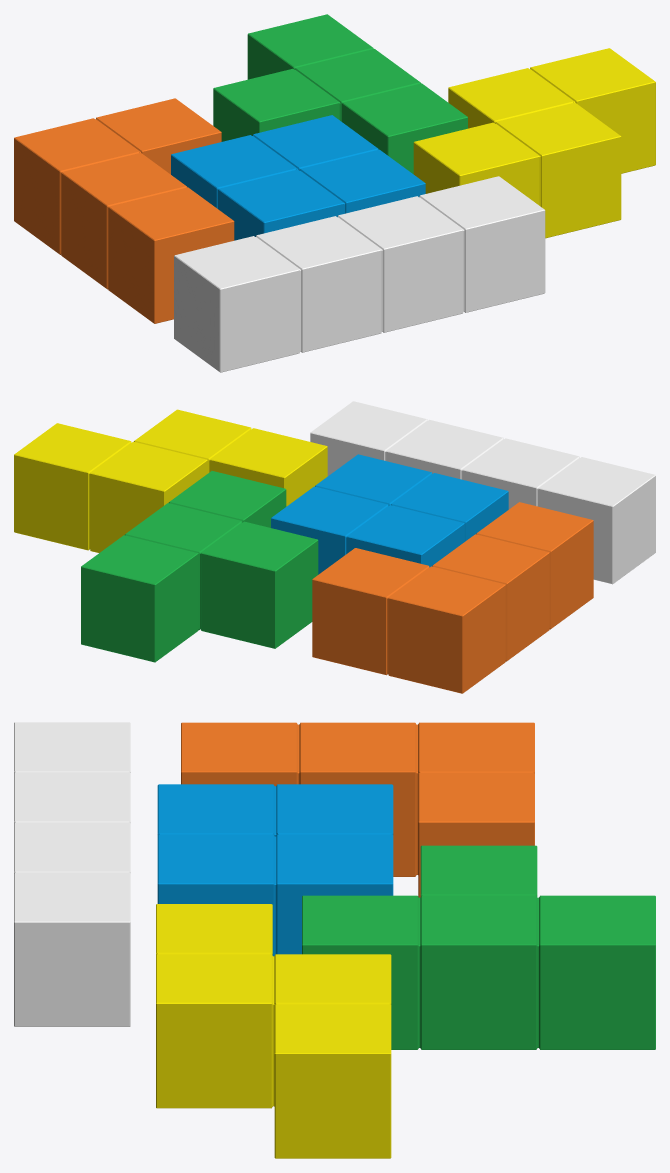
Rendered from BLOCKS.glb.
The picture shows the model from 3 angles, top to bottom: view 1: azimuth 30°, elevation 25°; view 2: azimuth 150°, elevation 25°; view 3: azimuth 270°, elevation 25°; orthographic projection. The views are drawn at different scales.
Size of the model in its own units: 0.118 by 0.0176 by 0.0966.
